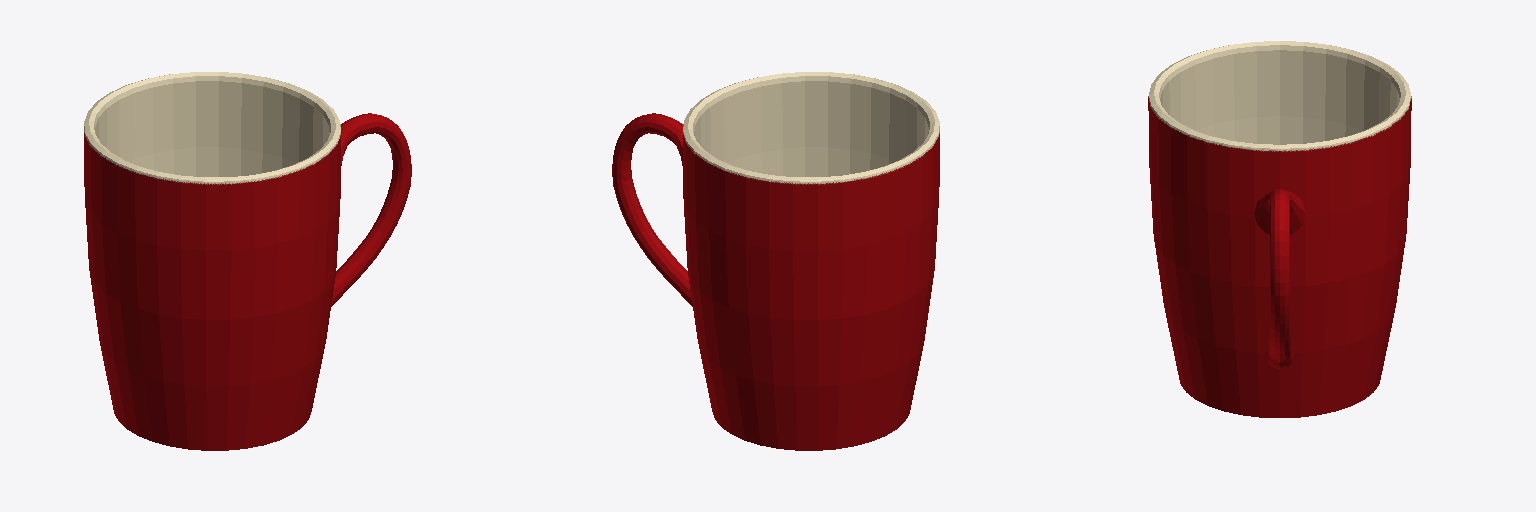
The picture shows the model from 3 angles: view 1: azimuth 30°, elevation 25°; view 2: azimuth 150°, elevation 25°; view 3: azimuth 270°, elevation 25°; orthographic projection.
Parts seen in each view (by area): view 1: mug_Cylinder.003, handle_Torus.002; view 2: mug_Cylinder.003, handle_Torus.002; view 3: mug_Cylinder.003, handle_Torus.002.
Boxes of the visible parts, x1=… form: mug_Cylinder.003: x1=84, y1=72, x2=340, y2=450; handle_Torus.002: x1=331, y1=113, x2=411, y2=306; mug_Cylinder.003: x1=683, y1=72, x2=939, y2=450; handle_Torus.002: x1=612, y1=113, x2=692, y2=306; mug_Cylinder.003: x1=1148, y1=41, x2=1411, y2=417; handle_Torus.002: x1=1254, y1=189, x2=1305, y2=368.
Bounding box in the file's own units: 0.1145 × 0.1005 × 0.0845.
1 materials, 1 textured.